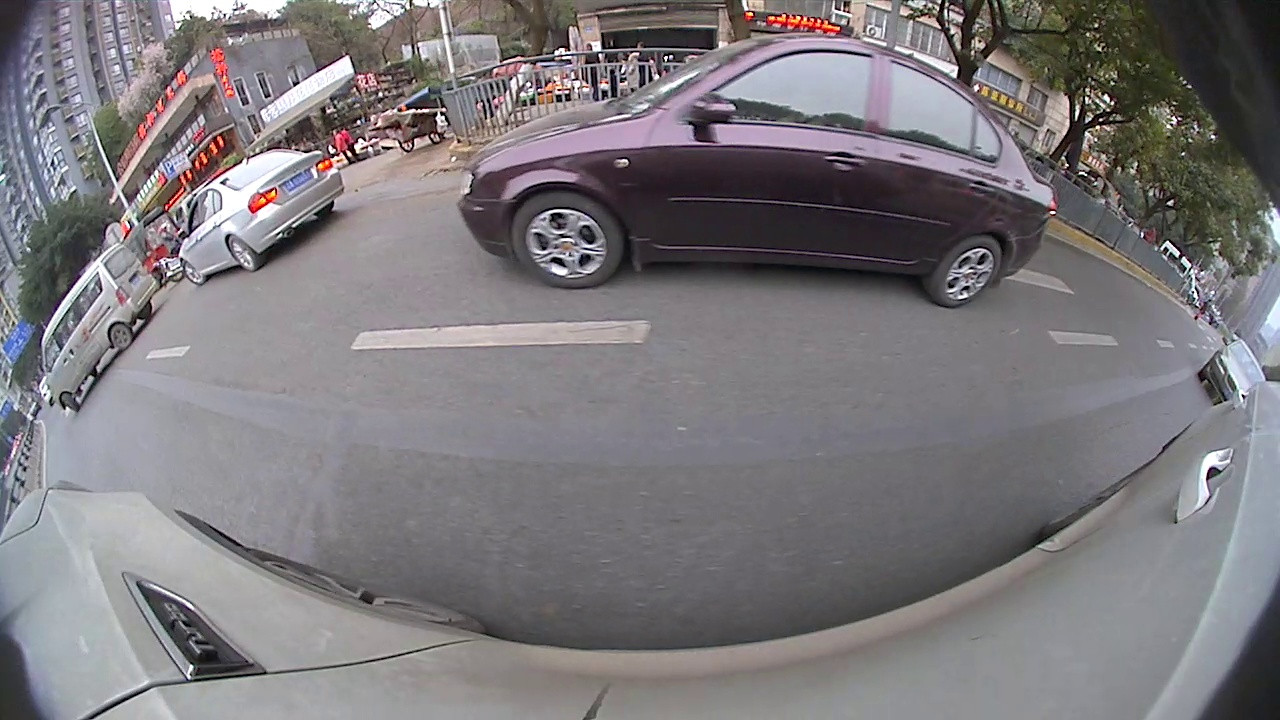car: (455, 25, 1062, 313), (176, 145, 347, 287), (36, 238, 165, 416), (1195, 335, 1266, 408)
front: (510, 192, 623, 290)
rear: (925, 236, 1004, 310), (227, 236, 266, 270), (107, 323, 136, 351)
